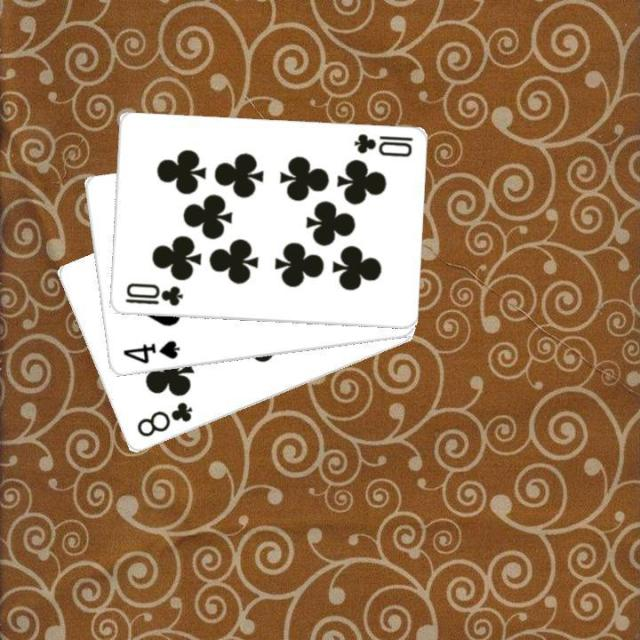10C: (350, 130, 414, 160), (121, 279, 184, 309)
4S: (118, 337, 182, 366)
8C: (133, 398, 195, 439)
